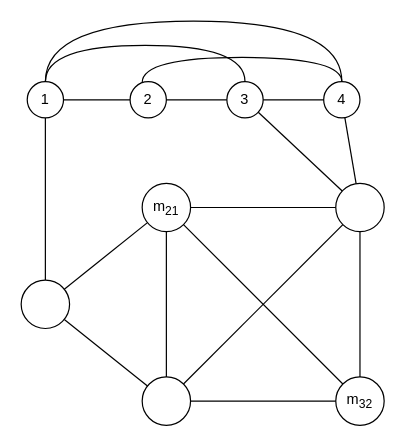
Some shapes in this 405 by 446 pixel diagram are drawn without their labels. Here are the shapes that lost their labels. From the top down, the centre of each, then its label:
(x=359, y=207): m 31
(x=45, y=304): m 11
(x=166, y=400): m 22
